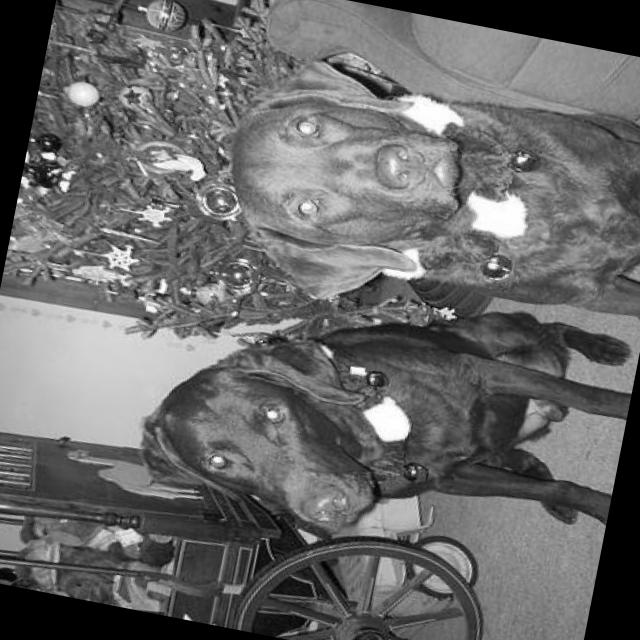sitting: (115, 241, 640, 595), (197, 8, 640, 363)
